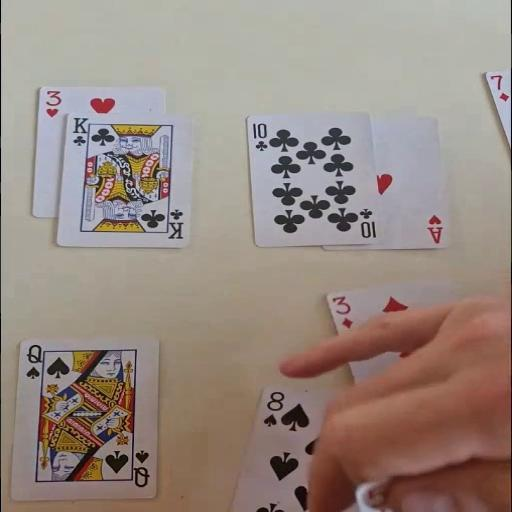10: (358, 206, 377, 239), (250, 121, 269, 152)
3: (330, 294, 354, 329), (42, 89, 62, 118)
7: (488, 72, 510, 102)
8: (260, 389, 286, 427)
A: (425, 213, 444, 244)
K: (162, 204, 185, 240), (69, 118, 88, 147), (69, 130, 88, 146)
Q: (130, 448, 150, 488), (23, 342, 43, 380)
